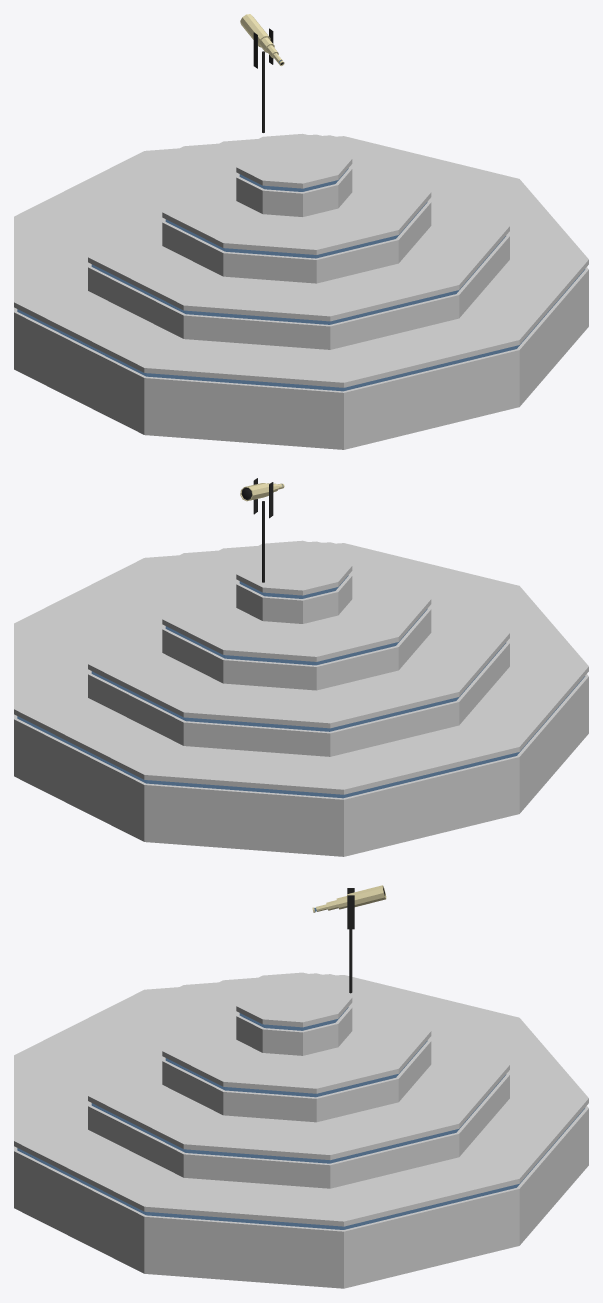
File: TelescopeCombined.fbx
The picture shows the model from 3 angles, top to bottom: view 1: azimuth 30°, elevation 25°; view 2: azimuth 150°, elevation 25°; view 3: azimuth 270°, elevation 25°; orthographic projection.
Parts seen in each view (by area): view 1: Dais, Telescope; view 2: Dais, Telescope; view 3: Dais, Telescope.
Boxes of the visible parts, <box> form: Dais: <box>14,28,588,449</box>; Telescope: <box>240,14,284,65</box>; Dais: <box>14,478,588,856</box>; Telescope: <box>240,483,284,501</box>; Dais: <box>14,888,588,1288</box>; Telescope: <box>312,885,386,912</box>.
Bounding box in the file's own units: 788 × 416 × 776.
